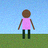person: (18, 9, 34, 39)
